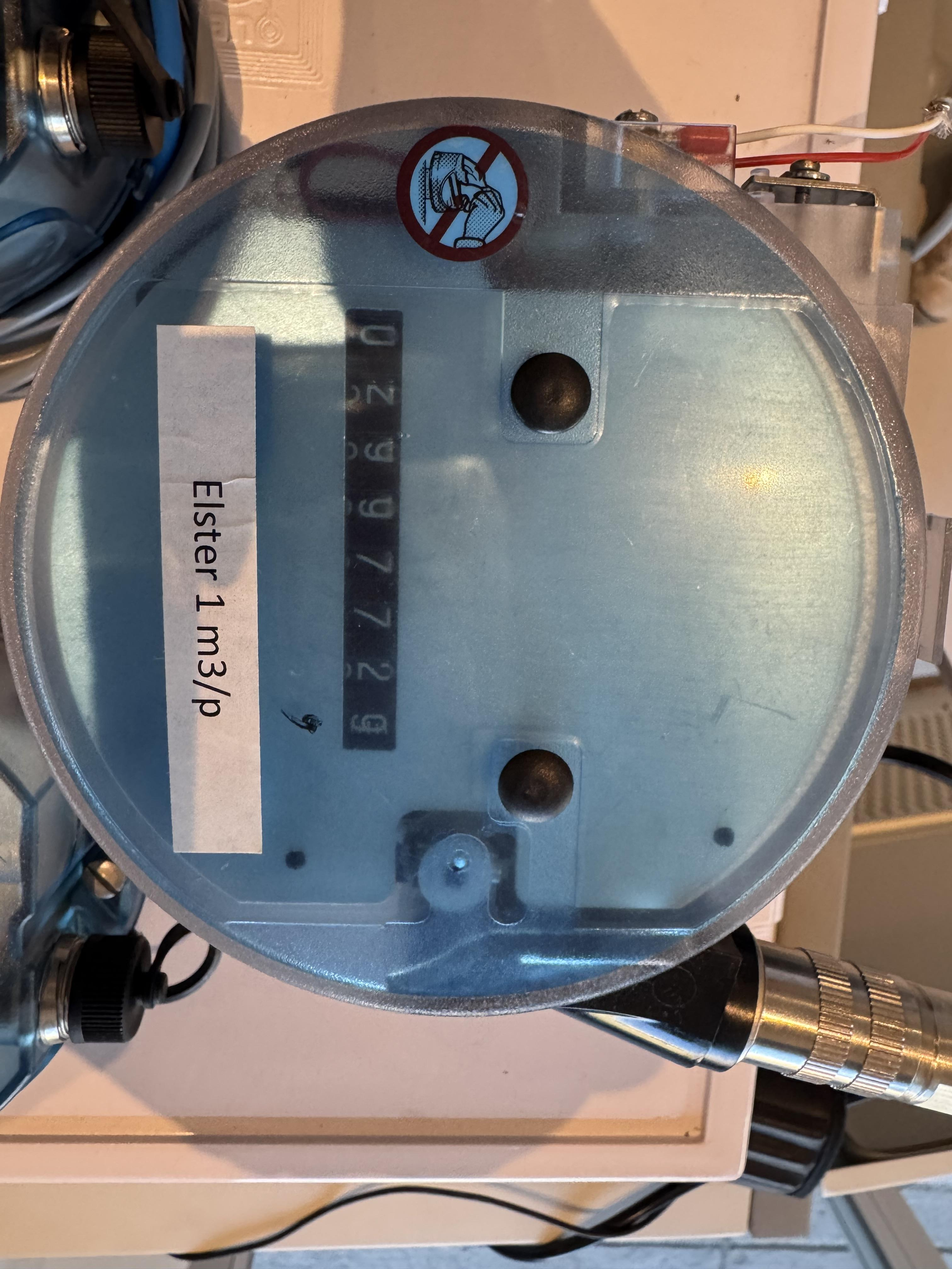analog_dial: (290, 304, 410, 754)
